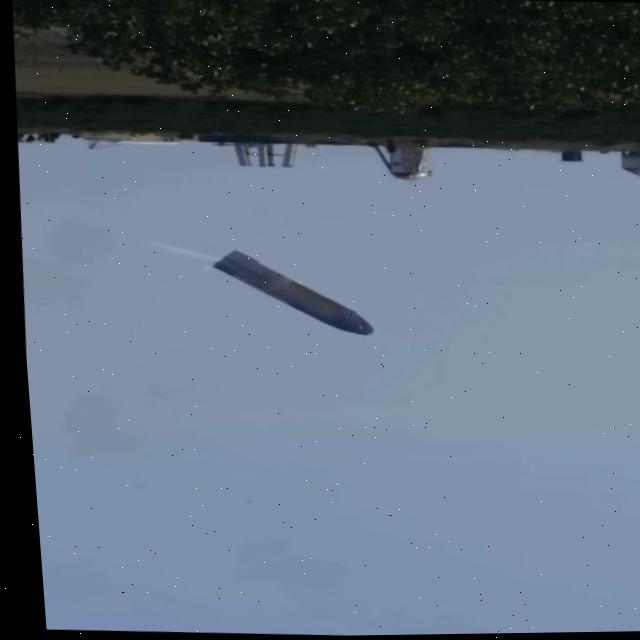missile: (200, 253, 374, 340)
